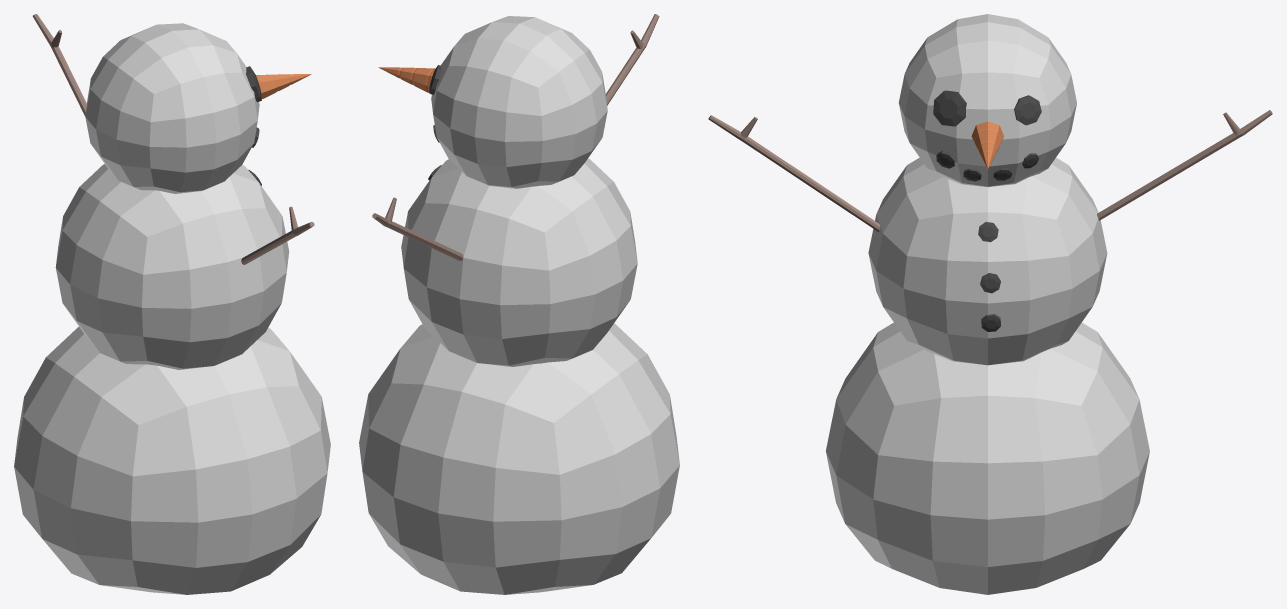
Rendered from snowman.glb.
3 renders of one model, left to right at view 1: azimuth 30°, elevation 25°; view 2: azimuth 150°, elevation 25°; view 3: azimuth 270°, elevation 25°, orthographic.
Parts seen in each view (by area): view 1: char; view 2: char; view 3: char.
Boxes of the visible parts, <box> form: char: <box>14,14,330,594</box>; char: <box>359,14,679,594</box>; char: <box>708,14,1272,594</box>.
Bounding box in the file's own units: 5.35 × 9.84 × 9.29.
